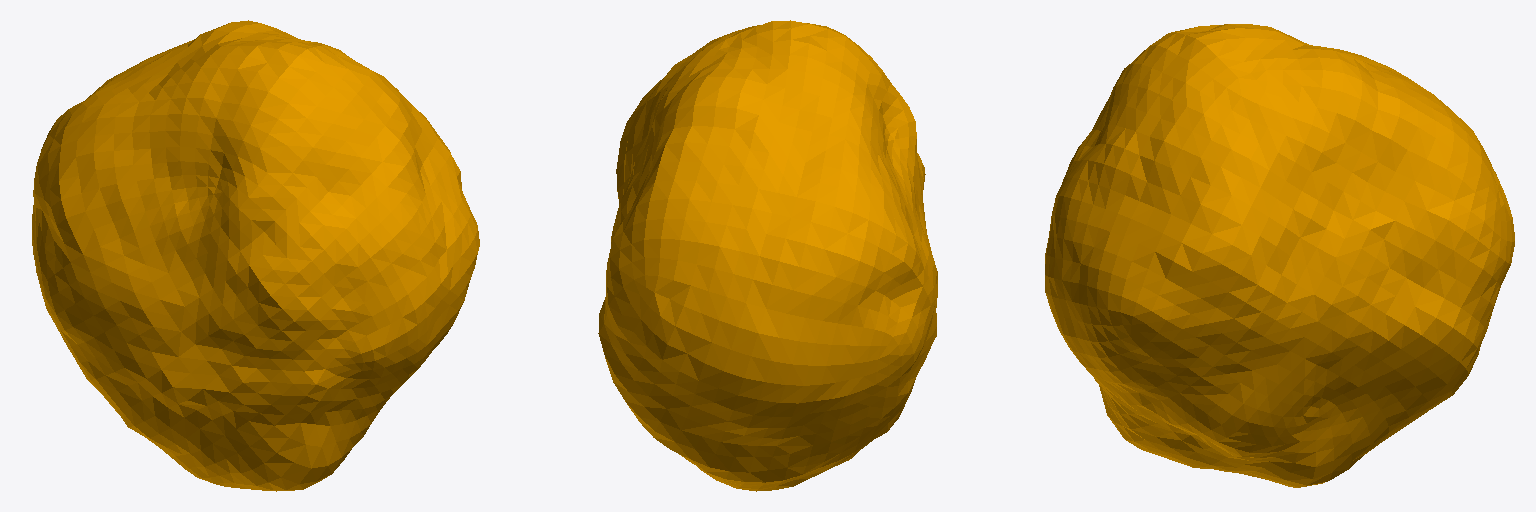
URDF robot description (rock):
<?xml version="1.0" ?>
<robot name="rock">
  <link name="rock">
    <inertial>
      <mass value="0.234"/>
      <origin rpy="0 0 0" xyz="0 0 0"/>
      <inertia ixx="0.000234" ixy="0" ixz="0" iyy="0.000234" iyz="0" izz="0.000234"/>
    </inertial>
    <collision name="rock_collision">
      <origin rpy="0 0 0" xyz="0 0 0"/>
      <geometry>
        <mesh filename="package://rocks/visual/201.dae" scale="1 1 1"/>
      </geometry>
    </collision>
    <visual name="rock_visual">
      <origin rpy="0 0 0" xyz="0 0 0"/>
      <geometry>
        <mesh filename="package://rocks/visual/201.dae" scale="1 1 1"/>
      </geometry>
    </visual>
  </link>
</robot>

--- Facts derived from the render (not from the file) ---
The picture shows the robot from 3 angles, left to right: view 1: azimuth 30°, elevation 25°; view 2: azimuth 150°, elevation 25°; view 3: azimuth 270°, elevation 25°; orthographic projection.
Model rock with 1 links and 0 joints (none), rooted at rock, posed every joint at zero.
Links seen in each view (by area): view 1: rock; view 2: rock; view 3: rock.
Boxes of the visible links, box(x1,y1,x2,y2) form: rock: box(32, 20, 479, 491); rock: box(598, 20, 937, 491); rock: box(1045, 24, 1514, 487).
Bounding box of the posed robot: 0.0733 × 0.0852 × 0.0894 m (x, y, z).
Meshes: 1 distinct files referenced, 1 mesh visuals loaded (1 Collada DAE).